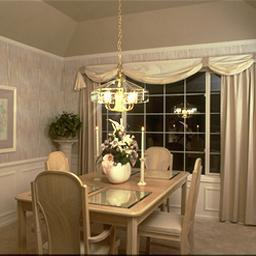Ventana: (93, 77, 234, 180)
